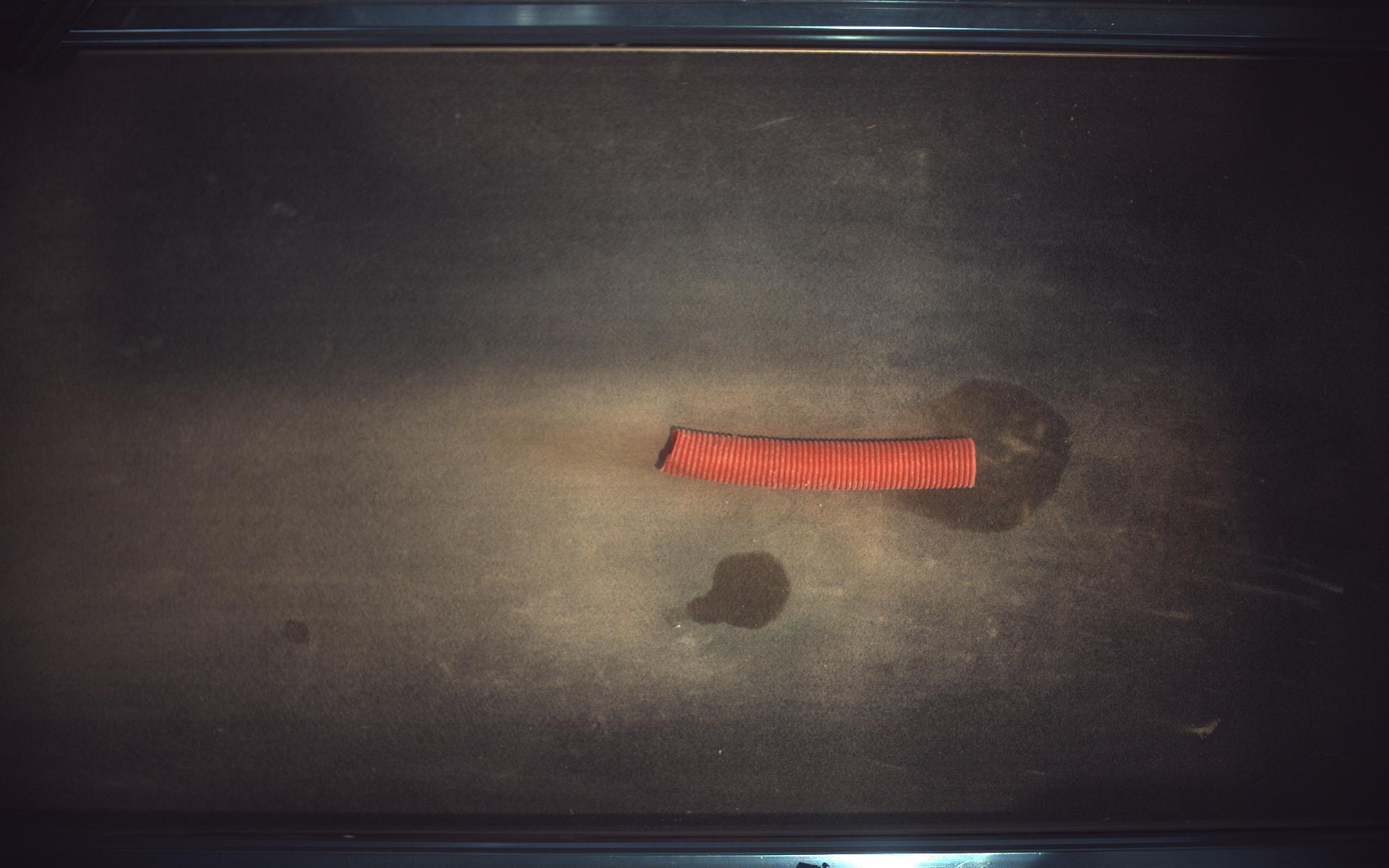pipes: (656, 426, 979, 490)
